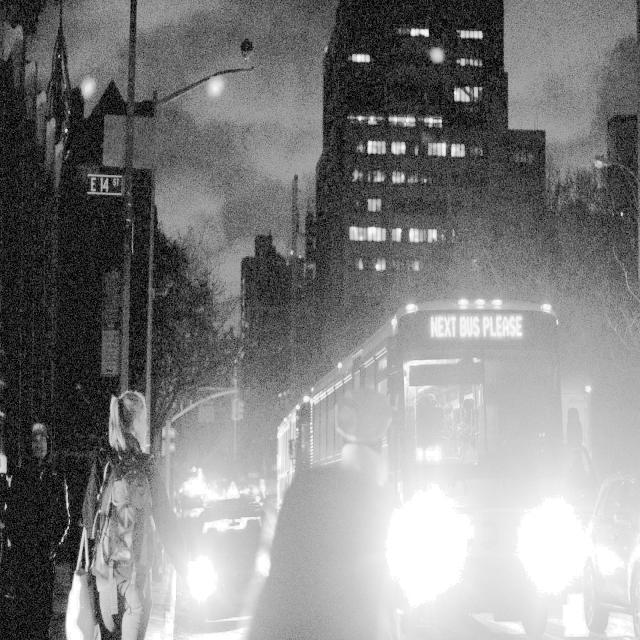Bus: (262, 296, 610, 598)
Car: (180, 485, 279, 631), (578, 429, 640, 639)
Person: (283, 362, 431, 640), (69, 383, 190, 626)
